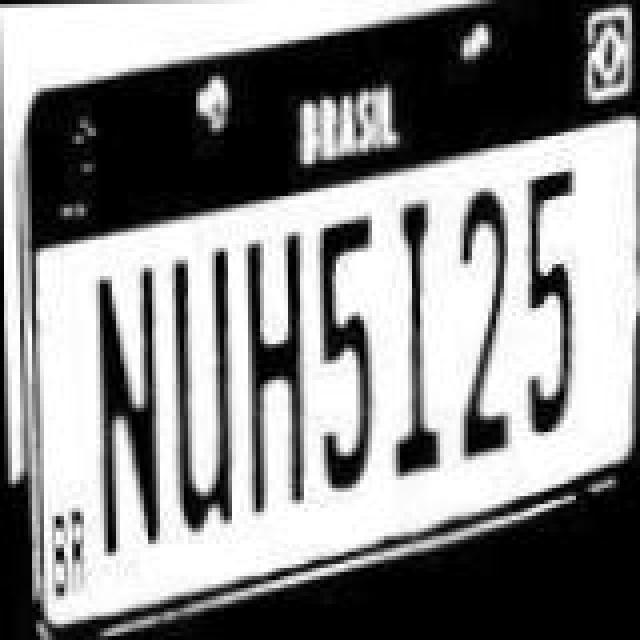2: (444, 166, 524, 450)
5: (310, 194, 386, 478), (520, 152, 592, 420)
H: (236, 212, 316, 500)
I: (380, 178, 452, 466)
N: (90, 252, 170, 560)
U: (162, 230, 242, 530)
